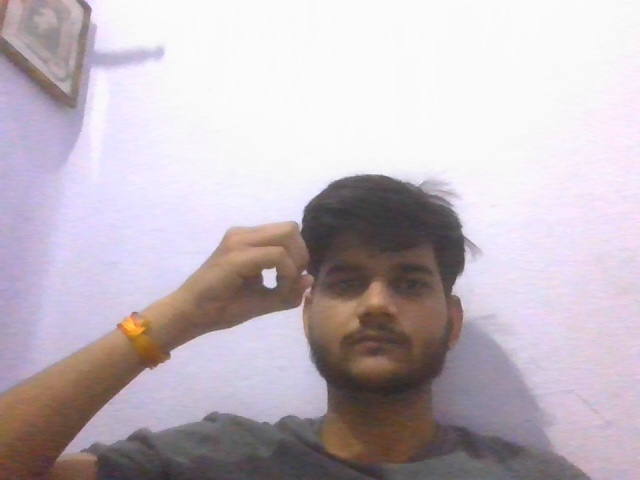no: (179, 213, 321, 340)
